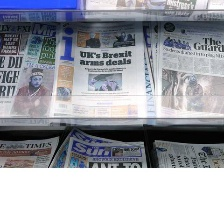news_paper: (53, 16, 151, 123), (152, 18, 224, 124), (0, 18, 58, 118), (48, 125, 150, 173), (82, 0, 209, 20), (150, 137, 224, 169), (0, 132, 61, 169)
